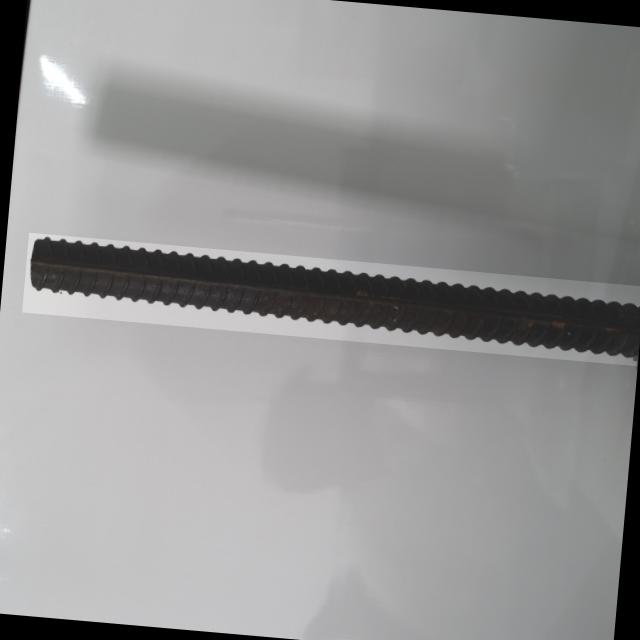ribbed bar: (22, 232, 640, 366)
